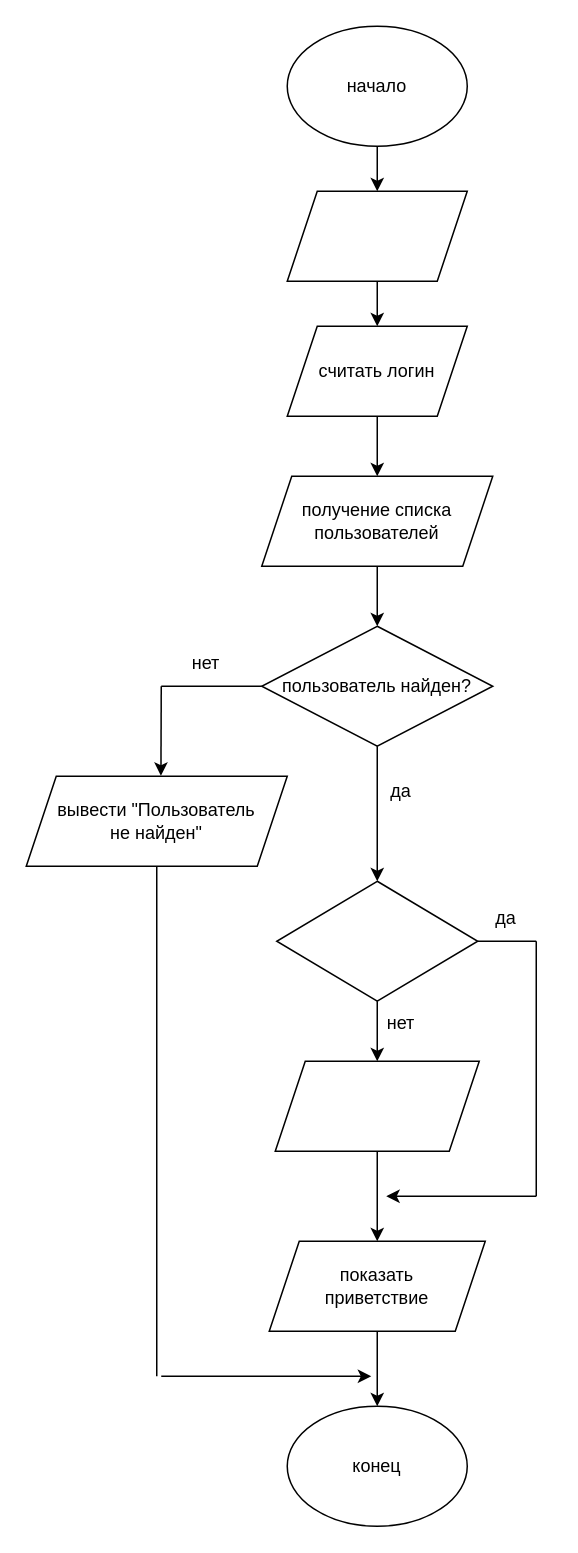
This 578x1553 diagram has some shape labels left out. The box of each missing label's shape, as (x1, y1, x2, y2) in pixels:
вывести "Введите логин": (286, 190, 467, 281)
показать рекламу: (274, 1060, 479, 1151)
пользователь - премиум?: (275, 880, 478, 1001)
